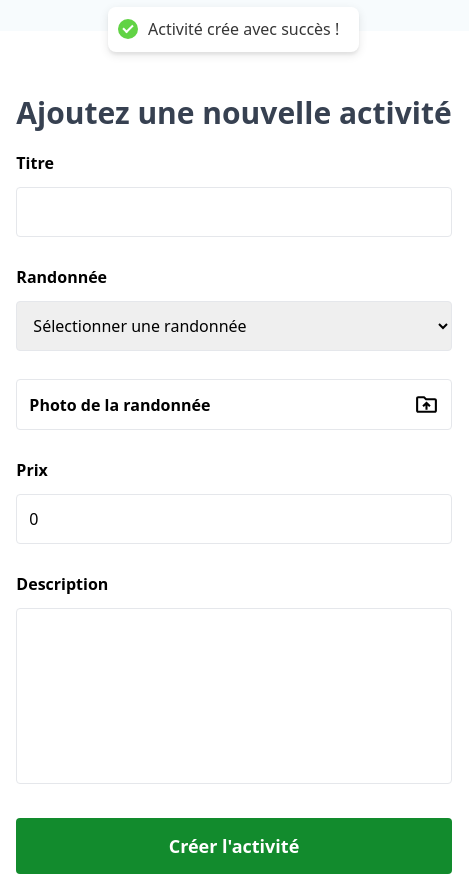
Test case: AddNewActivity Screen › should shows an error message if there are any errors
Type "Marche à Mafate" into the field labelled "Titre" at (234, 212), box left=16, top=187, right=452, bottom=237
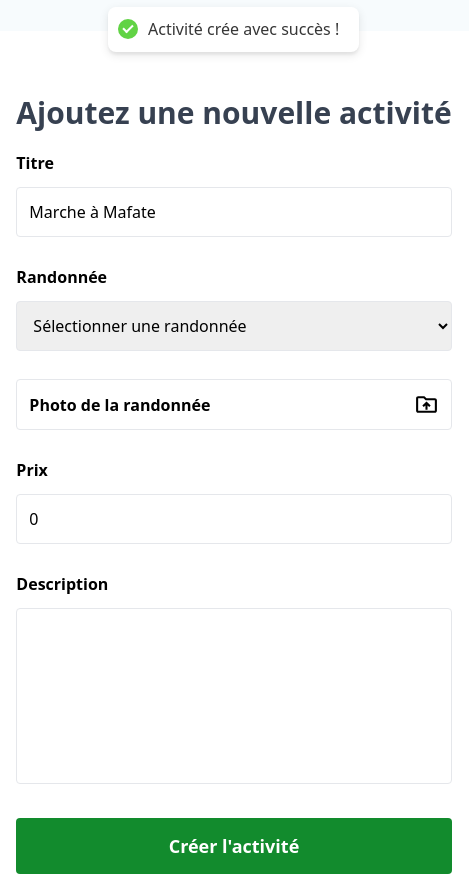
Select "Mafate" in the dropdown at (234, 326), box left=16, top=301, right=452, bottom=351
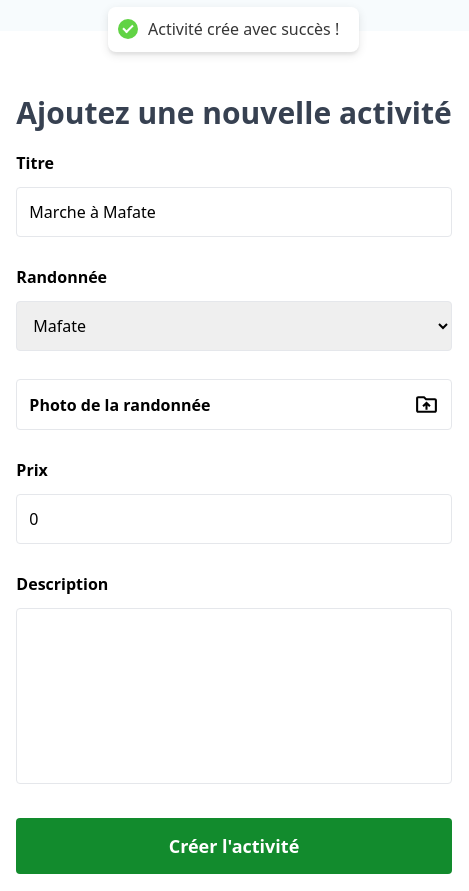
Replace the text in the number field labelled "Prix" with "100" at (234, 519), box left=16, top=494, right=452, bottom=544
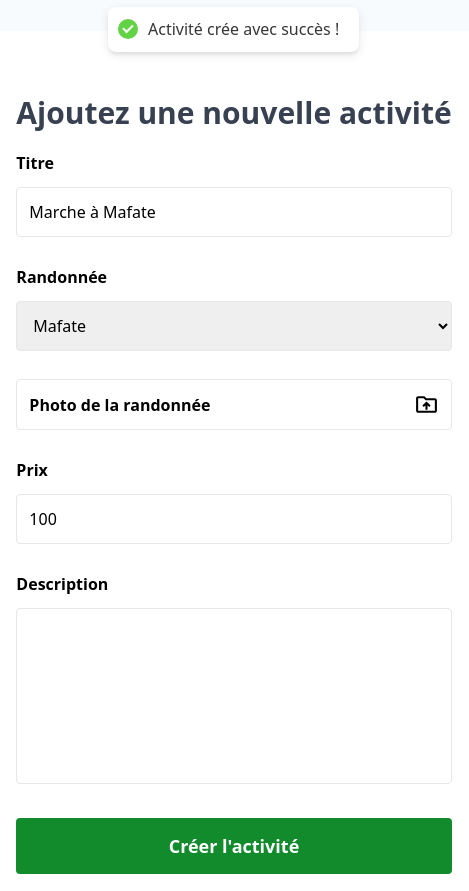
Type "Une super marche à Mafate" into the text box labelled "Description" at (234, 696), box left=16, top=608, right=452, bottom=784
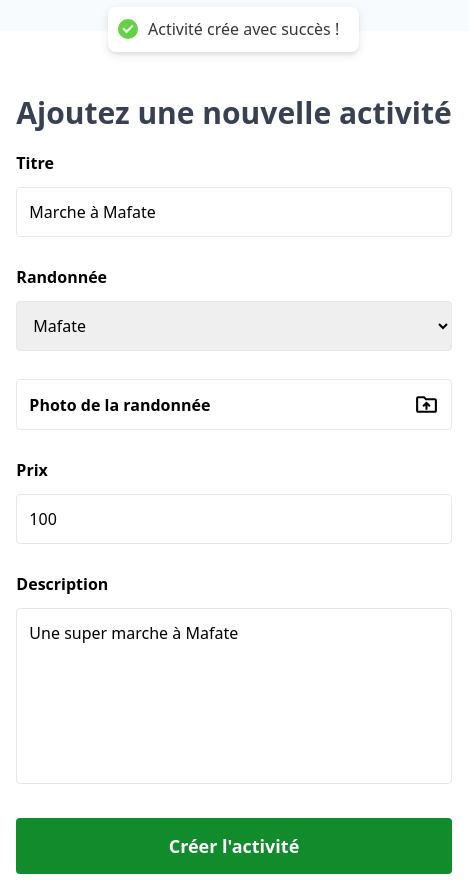
Click the button "Créer l'activité" at (234, 846), box left=16, top=818, right=452, bottom=874
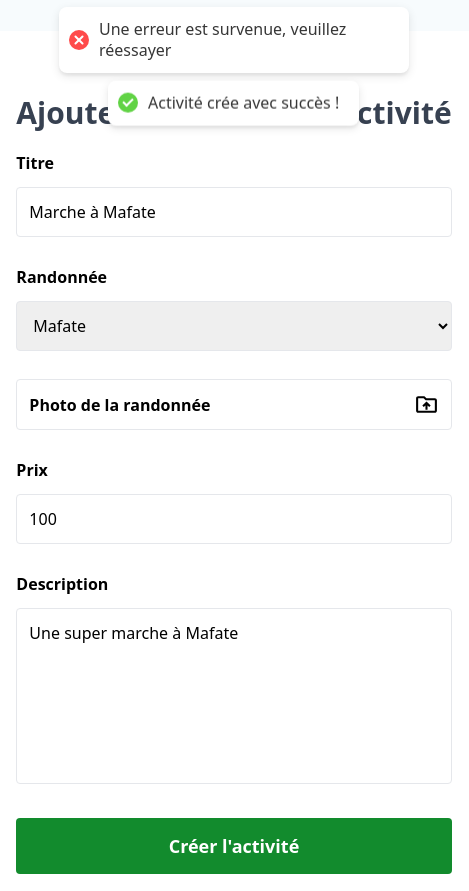
Now the text "Une erreur est survenue, veuillez réessayer" is shown, box left=99, top=19, right=389, bottom=61
